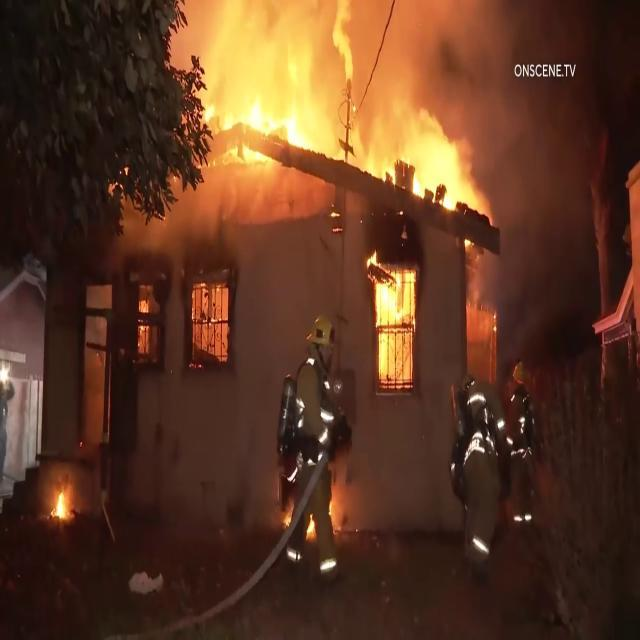Fire: (207, 65, 315, 209), (378, 266, 414, 399), (398, 150, 444, 239), (50, 493, 76, 553)
Smoke: (464, 0, 617, 329), (343, 0, 459, 134)
